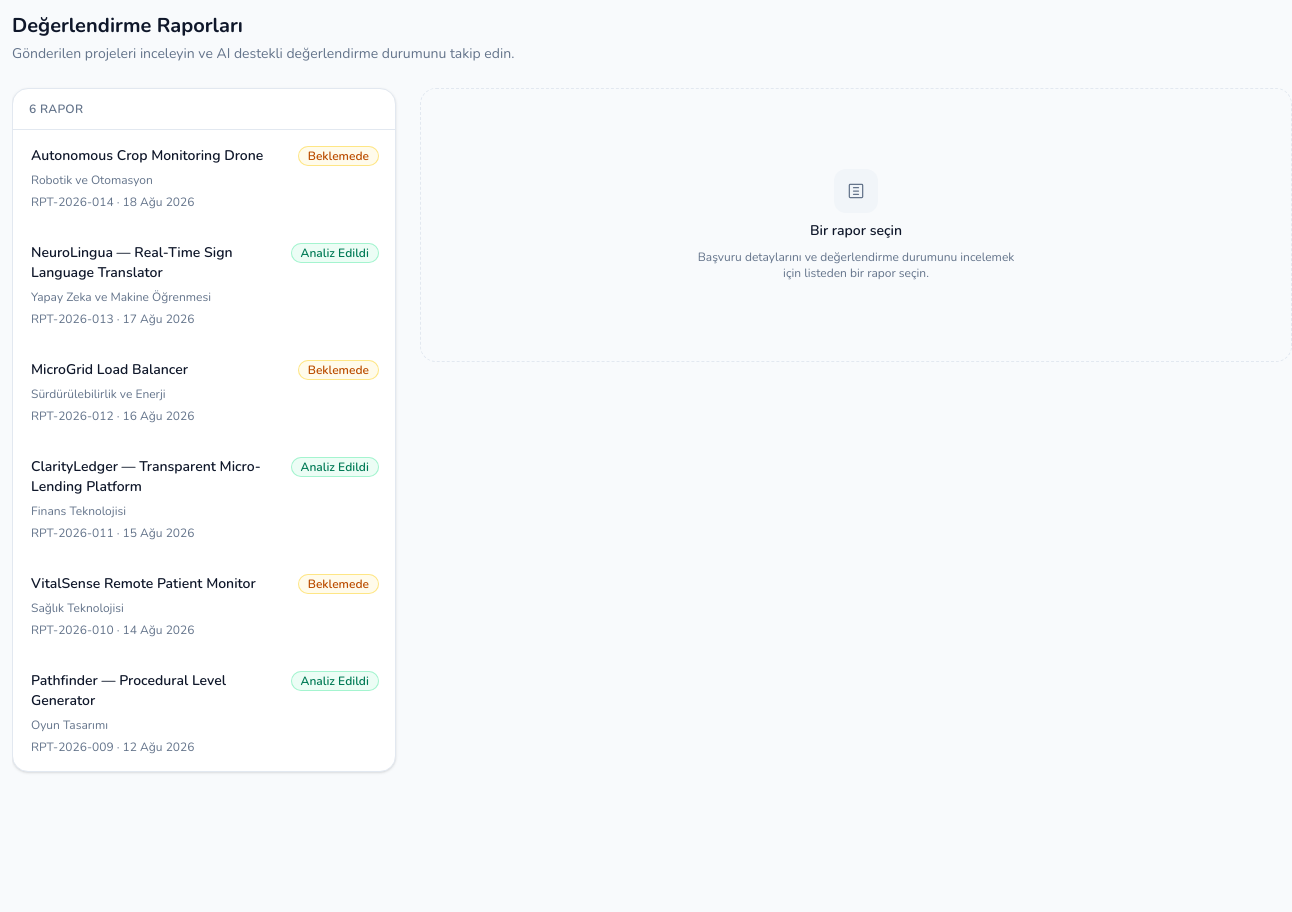
Test: RefereeDashboard › marks the selected row as aria-selected and updates when selection changes
This screenshot has width=1292, height=912.
Click the option that starts with "Autonomous Crop Monitoring Drone". click: (147, 156)
box: [13, 130, 395, 227]
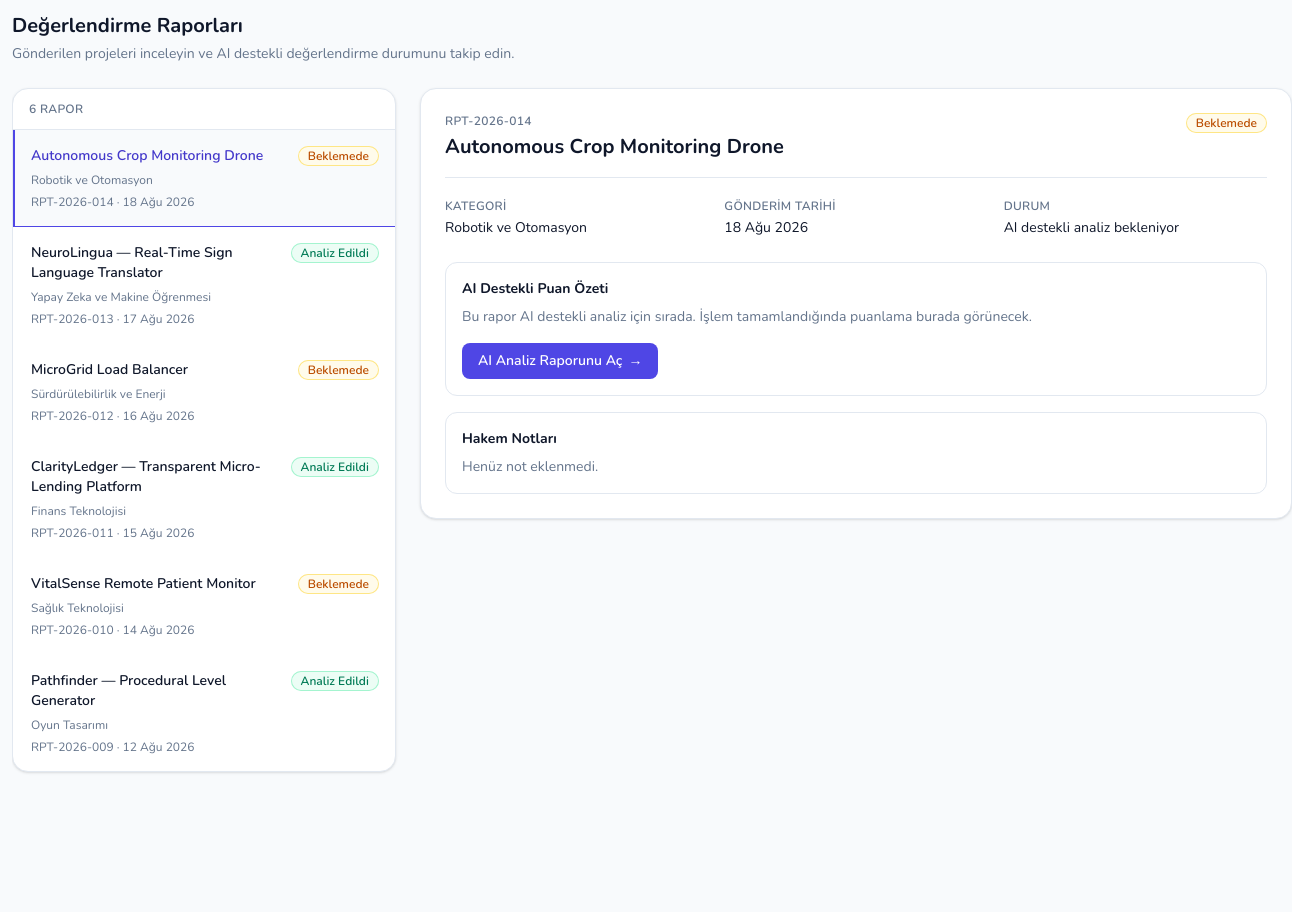
Now the element with test id "report-detail" shows "Autonomous Crop Monitoring Drone", box [445, 133, 784, 160]
Click the 2nd option. click: (132, 252)
box: [13, 227, 395, 344]
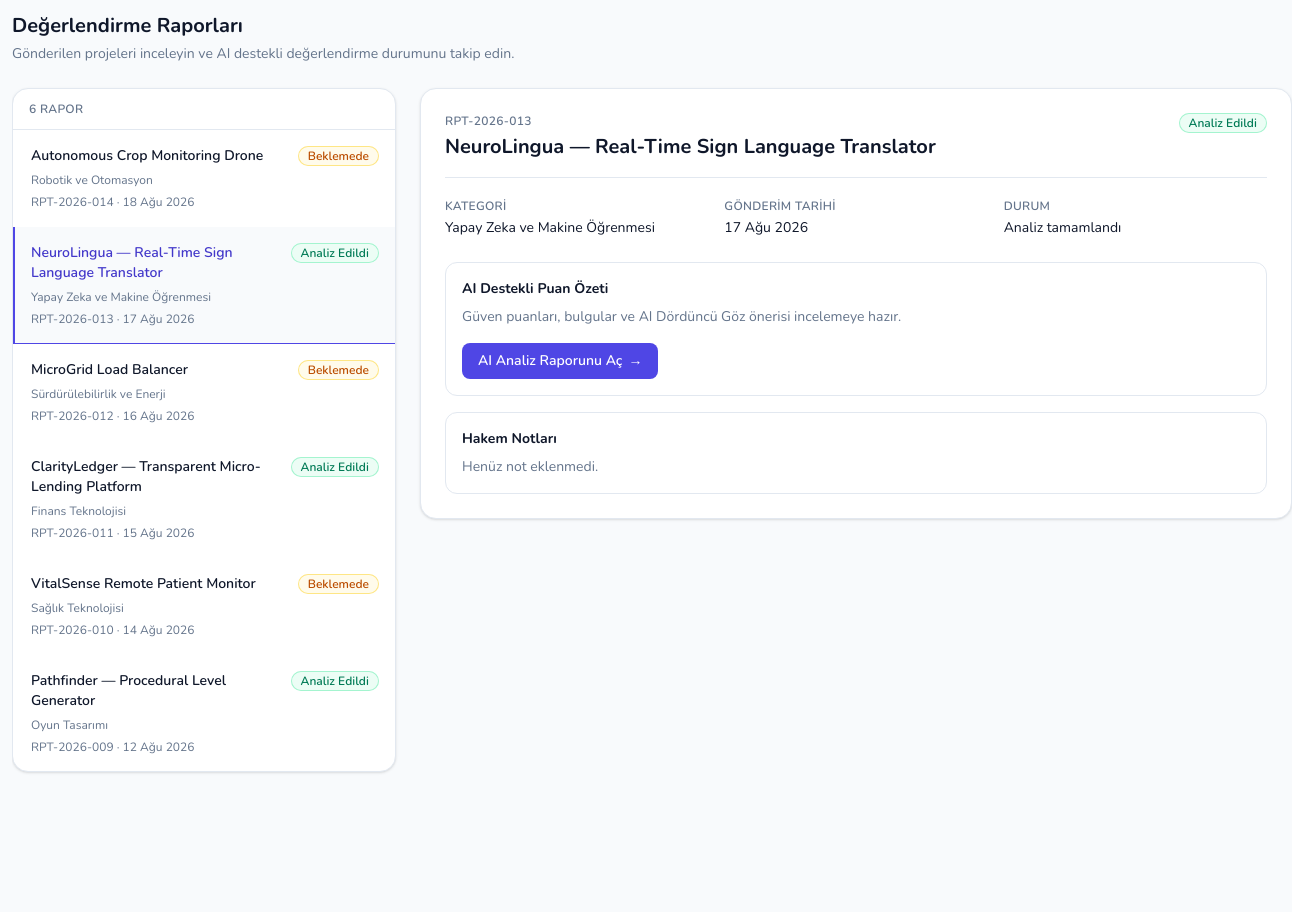
Expected: the element with test id "report-detail" does not show "Autonomous Crop Monitoring Drone", [420, 88, 1291, 519]
Now the element with test id "report-detail" shows "NeuroLingua — Real-Time Sign Language Translator", box [445, 133, 936, 160]
